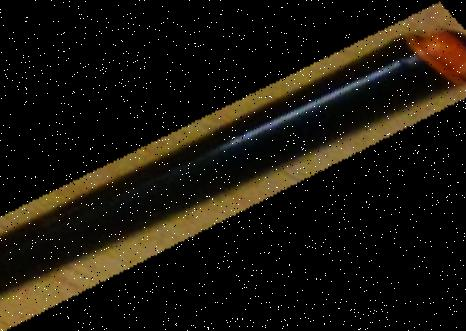orange: (0, 1, 466, 331)
